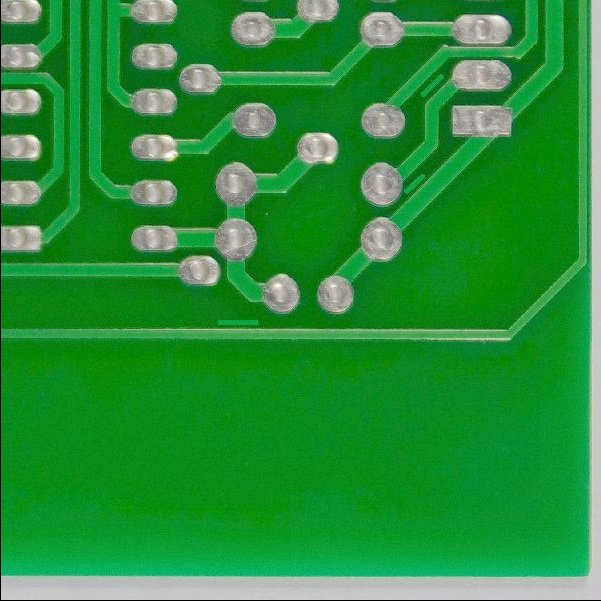spurious_copper: (213, 313, 262, 335), (416, 70, 447, 100), (399, 170, 432, 197)
